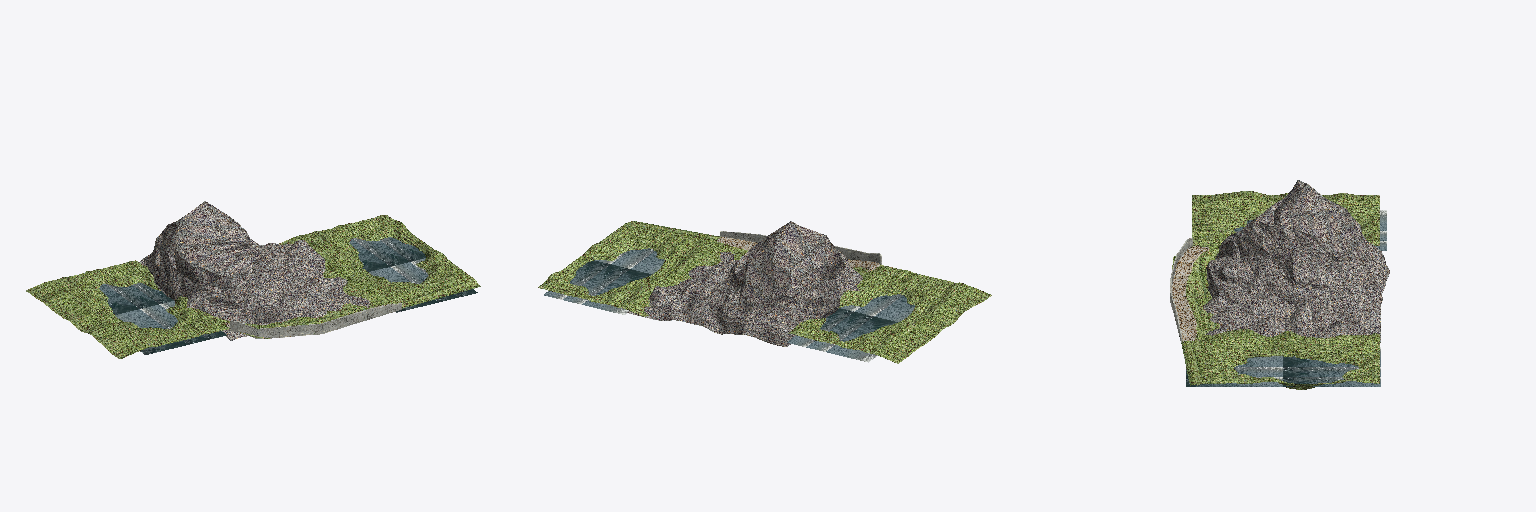
3 renders of one model, left to right at view 1: azimuth 30°, elevation 25°; view 2: azimuth 150°, elevation 25°; view 3: azimuth 270°, elevation 25°, orthographic.
Parts seen in each view (by area): view 1: Montanha, parteTerra.001, parteTerra, agua.001, agua, muro1; view 2: Montanha, parteTerra.001, parteTerra, agua.001, agua, muro1; view 3: Montanha, parteTerra.001, parteTerra, agua, Plane.
Part boxes in pixels (bbox=[...]): Montanha: bbox=[139, 201, 369, 340]; parteTerra.001: bbox=[26, 260, 480, 358]; parteTerra: bbox=[279, 215, 476, 307]; agua.001: bbox=[99, 283, 226, 354]; agua: bbox=[350, 237, 477, 312]; muro1: bbox=[230, 303, 401, 338]; Montanha: bbox=[627, 221, 862, 346]; parteTerra.001: bbox=[628, 221, 991, 363]; parteTerra: bbox=[538, 223, 731, 316]; agua.001: bbox=[787, 294, 914, 362]; agua: bbox=[544, 248, 664, 314]; muro1: bbox=[720, 231, 881, 264]; Montanha: bbox=[1203, 180, 1389, 342]; parteTerra.001: bbox=[1172, 191, 1379, 385]; parteTerra: bbox=[1197, 329, 1379, 389]; agua: bbox=[1186, 347, 1380, 386]; Plane: bbox=[1172, 246, 1209, 341].
Size of the model in its own units: 831 by 238 by 437.
7 materials, 5 textured.